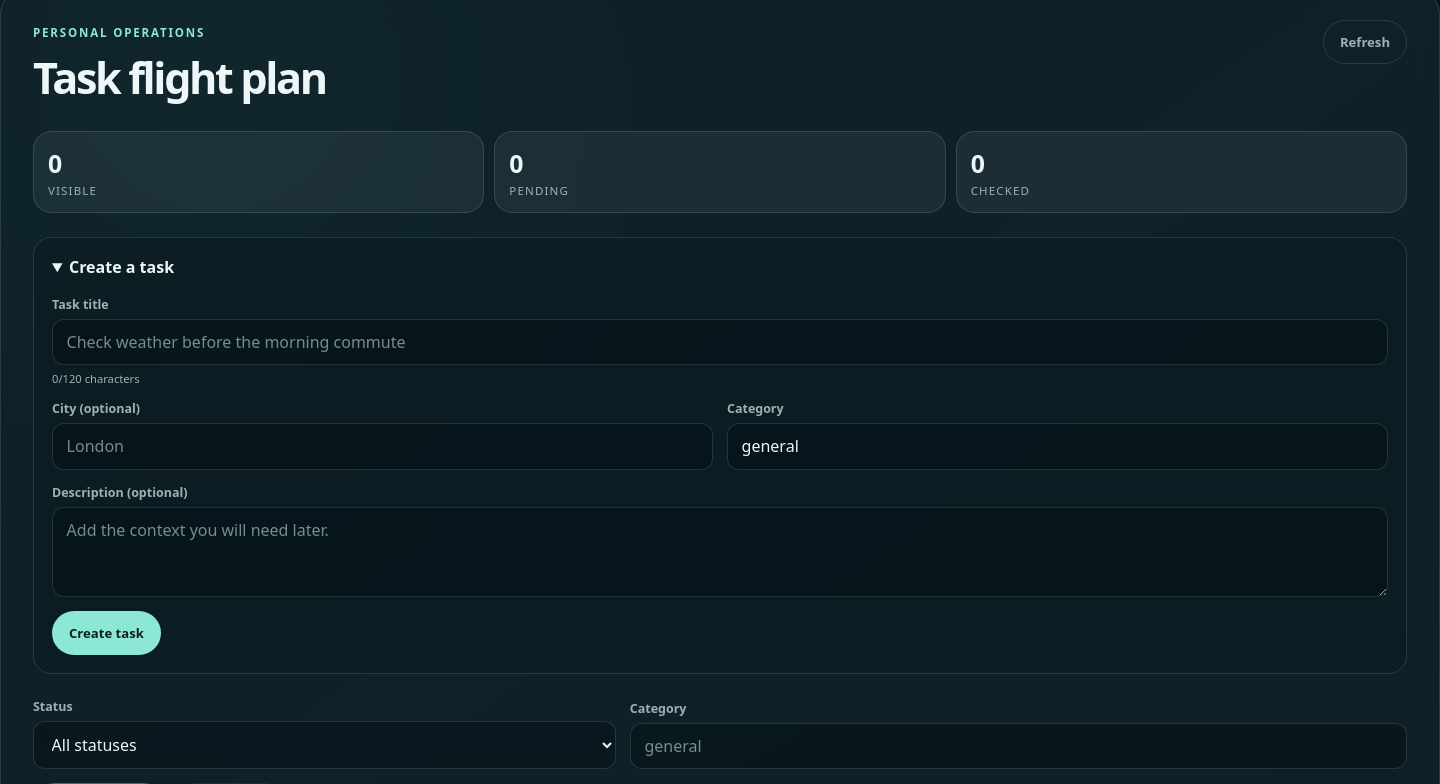
it: task workspace › creates a task and refreshes the server-owned list
Type "Review Paris conditions" into the field labelled "Task title" at (720,342), box x1=52 y1=319 x2=1388 y2=365
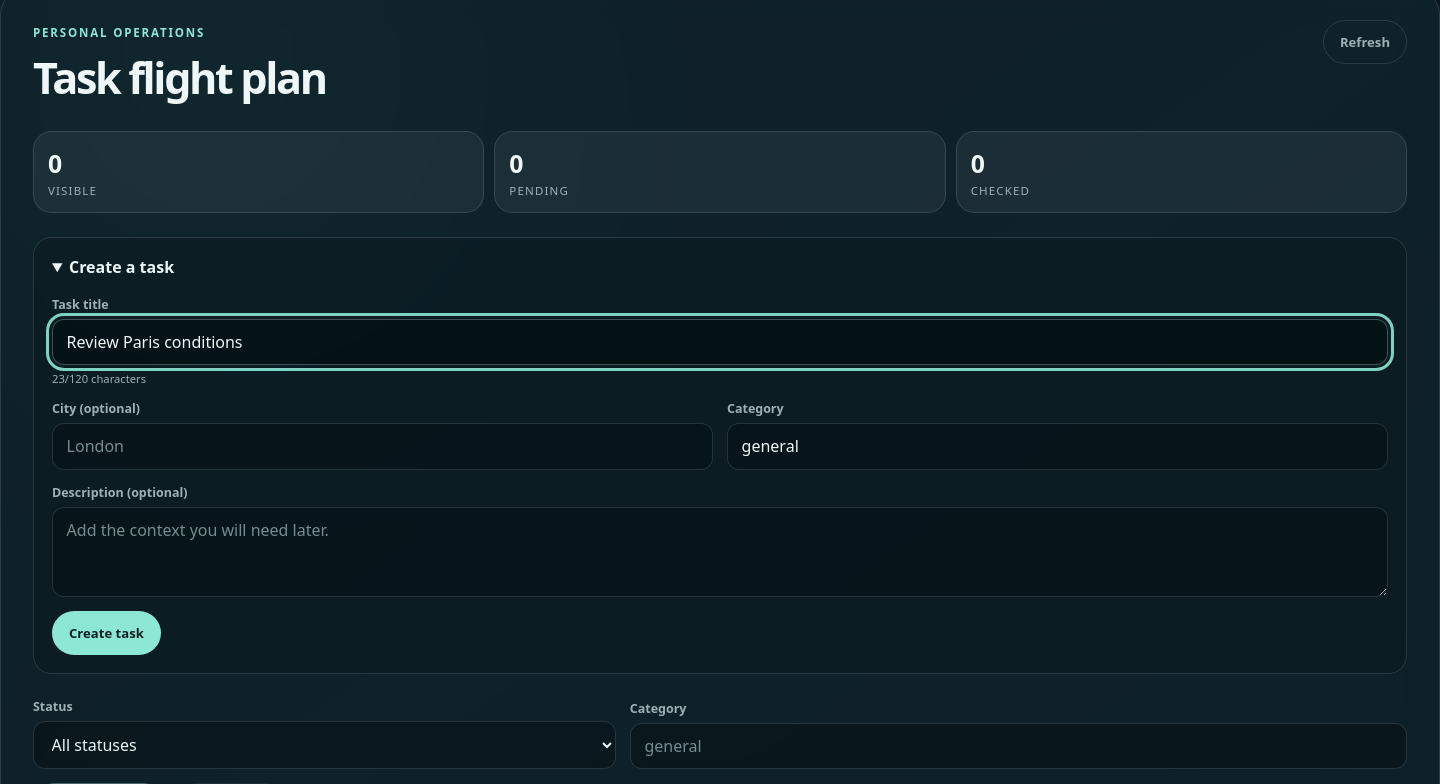
Type "daily" into the 1st field labelled "Category" at (1058,446), box x1=727 y1=423 x2=1388 y2=470
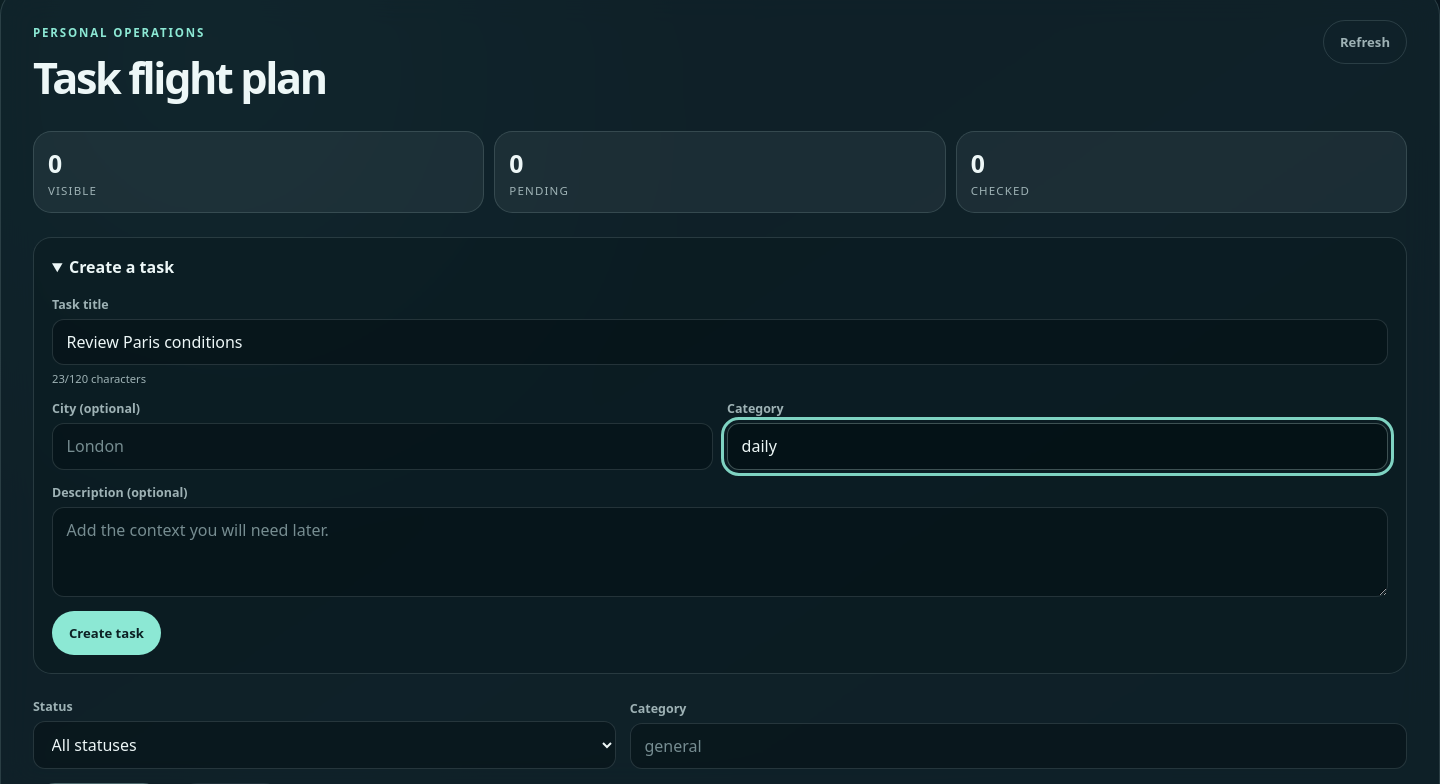
Click the button "Create task" at (106,633), box x1=52 y1=611 x2=161 y2=655
(page scrolled)
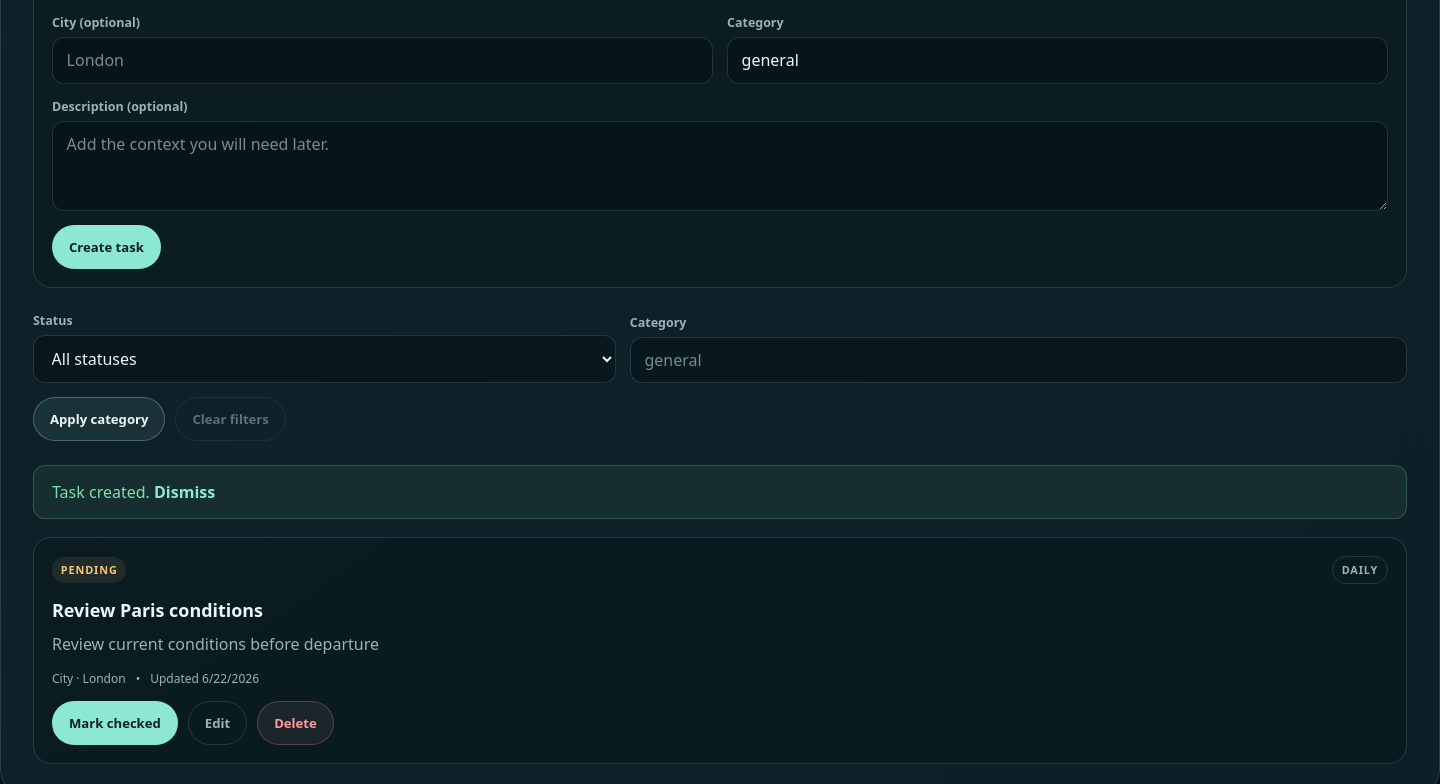
Now the text "Task created." is shown, box x1=52 y1=481 x2=150 y2=503
Now the heading "Review Paris conditions" is shown, box x1=52 y1=598 x2=263 y2=622
Now the text "daily" is shown, box x1=1332 y1=556 x2=1388 y2=584
